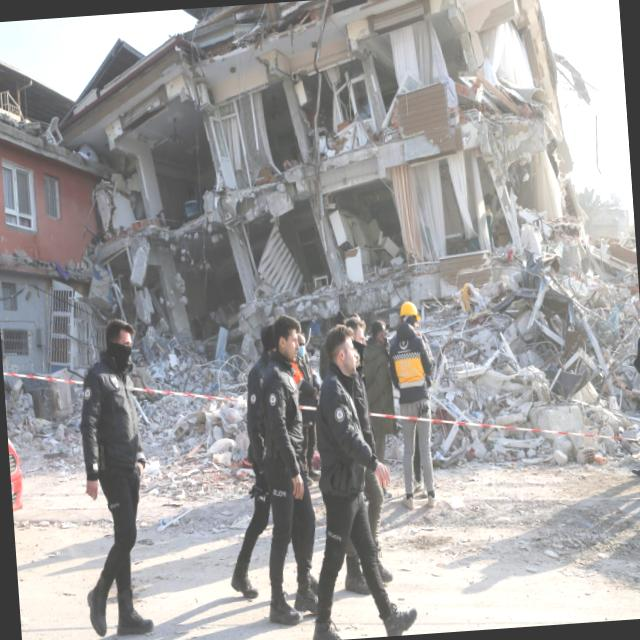helmet: (394, 296, 422, 324)
no-helmet: (317, 320, 360, 364), (100, 308, 134, 352), (266, 308, 301, 347), (368, 317, 390, 345)
no-vest: (72, 363, 147, 495), (253, 355, 310, 505), (314, 376, 364, 506), (392, 324, 428, 404)
